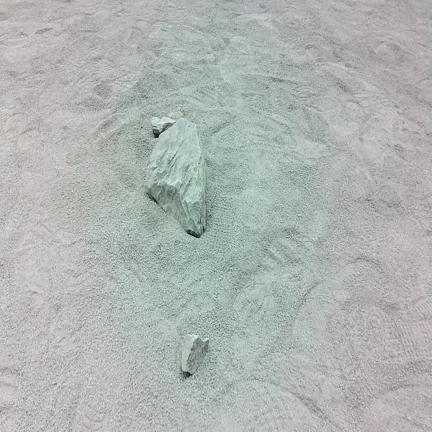Rock: (146, 118, 205, 237), (182, 335, 208, 374), (152, 117, 175, 137)
